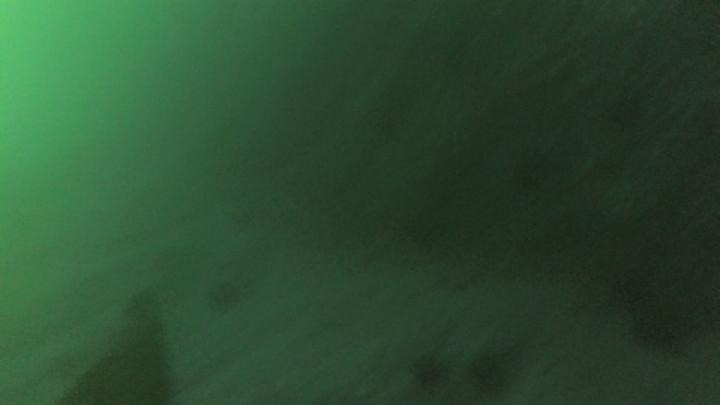echinus: (465, 345, 519, 401), (409, 350, 450, 390), (205, 276, 247, 313)
